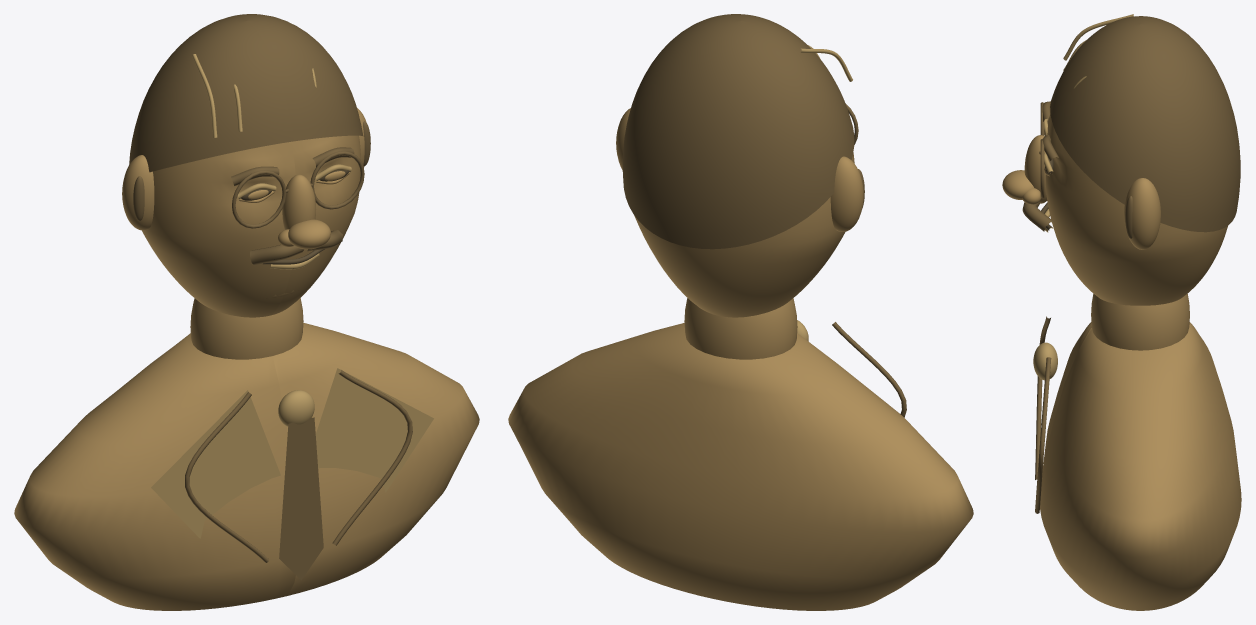
Rendered from bernardes.glb.
3 renders of one model, left to right at view 1: azimuth 30°, elevation 25°; view 2: azimuth 150°, elevation 25°; view 3: azimuth 270°, elevation 25°, orthographic. The views are drawn at different scales.
Parts seen in each view (by area): view 1: bernardes; view 2: bernardes; view 3: bernardes.
Part boxes in pixels (left/top/right/bottom): bernardes: left=14, top=14, right=479, bottom=610; bernardes: left=508, top=14, right=973, bottom=610; bernardes: left=1002, top=14, right=1241, bottom=610.
Size of the model in its own units: 1.22 by 1.4 by 0.58.
